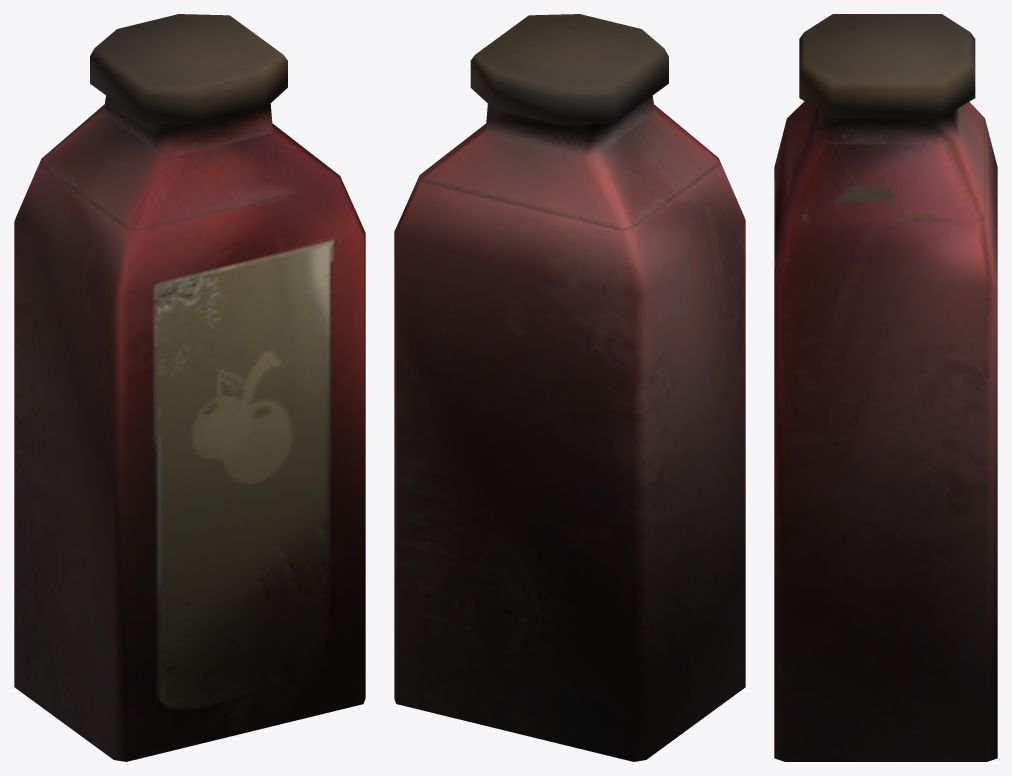
The model's file is GeneralStore_Bottle_06.obj.
3 views of the same model, side by side, from view 1: azimuth 30°, elevation 25°; view 2: azimuth 150°, elevation 25°; view 3: azimuth 270°, elevation 25° (orthographic).
Parts seen in each view (by area): view 1: Model_GeneralStore_Bottle_06; view 2: Model_GeneralStore_Bottle_06; view 3: Model_GeneralStore_Bottle_06.
Boxes of the visible parts, left/top/right/bottom form: Model_GeneralStore_Bottle_06: left=14, top=14, right=365, bottom=761; Model_GeneralStore_Bottle_06: left=394, top=14, right=745, bottom=761; Model_GeneralStore_Bottle_06: left=774, top=14, right=997, bottom=761.
Size of the model in its own units: 0.0909 by 0.221 by 0.0686.
Materials: 1 (1 with a texture image).
